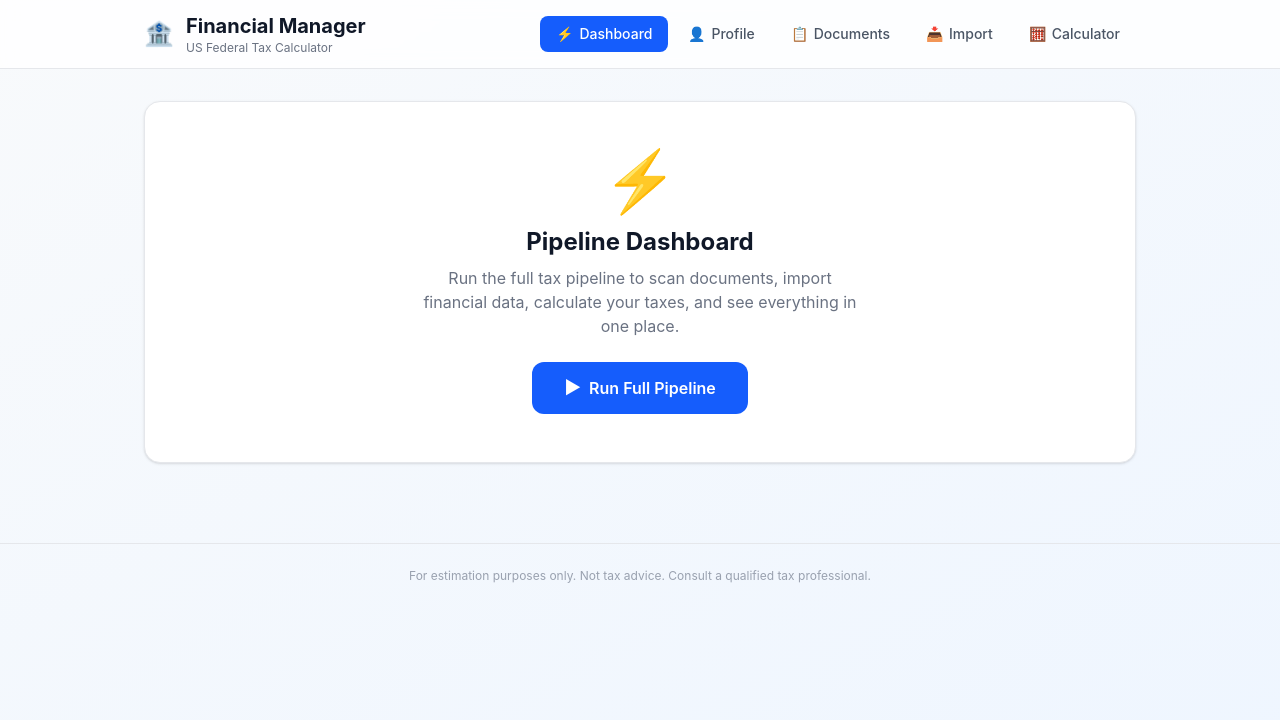
Test: App › navigates to calculator view
The width and height of the screenshot is (1280, 720).
What coordinates should you click on to do the following:
click the text "Calculator"
I would click on:
 (1086, 34)
Its box is [1052,24,1120,44].
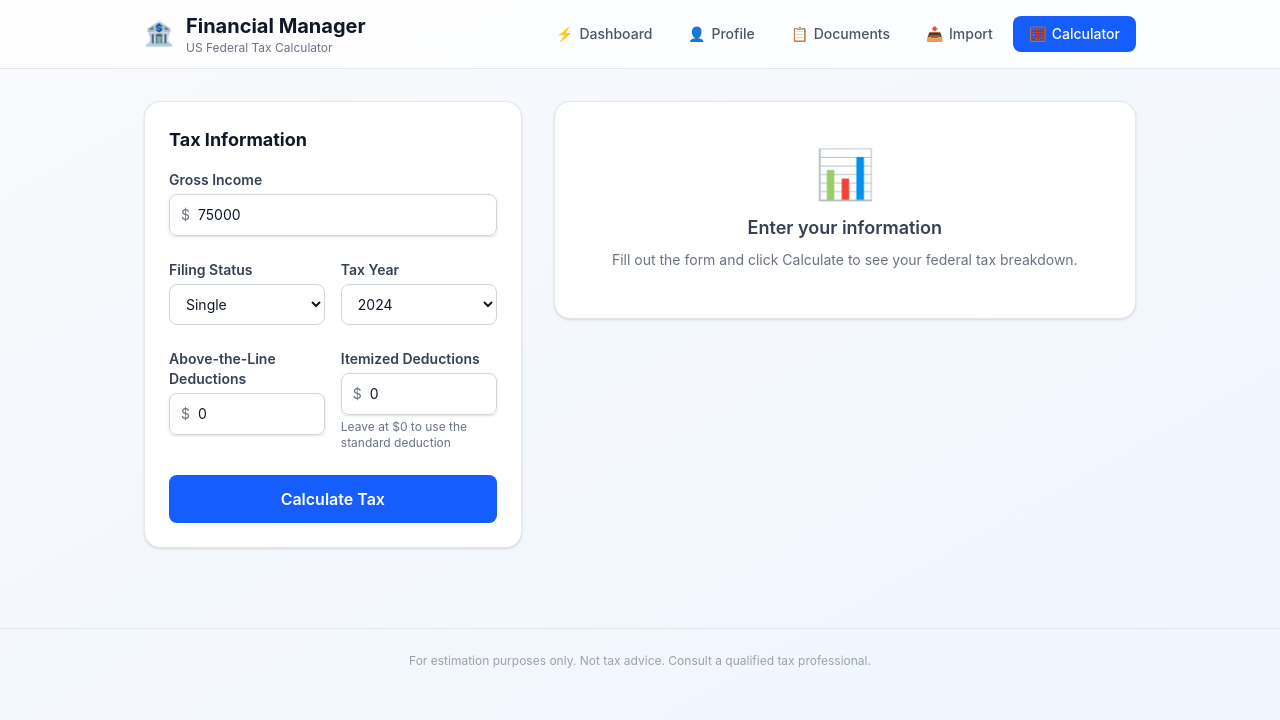
Expected: the number field labelled "Gross Income" is shown, [169,194,497,236]
Expected: the button "Calculate Tax" is shown, [169,475,497,523]
